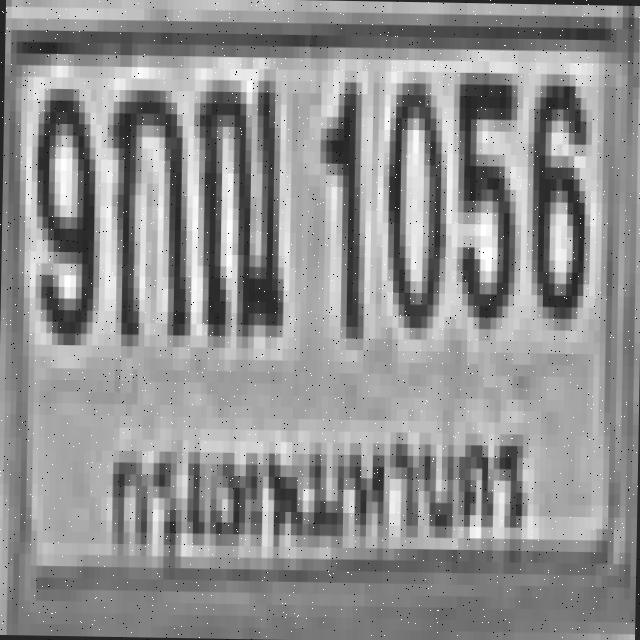0: (380, 71, 442, 328)
1: (314, 75, 359, 332)
10GorGai: (104, 78, 188, 335)
28NorNen: (190, 68, 281, 336)
5: (449, 72, 512, 318)
6: (525, 68, 587, 312)
9: (28, 76, 96, 334)
Bangkok: (83, 393, 541, 569)
